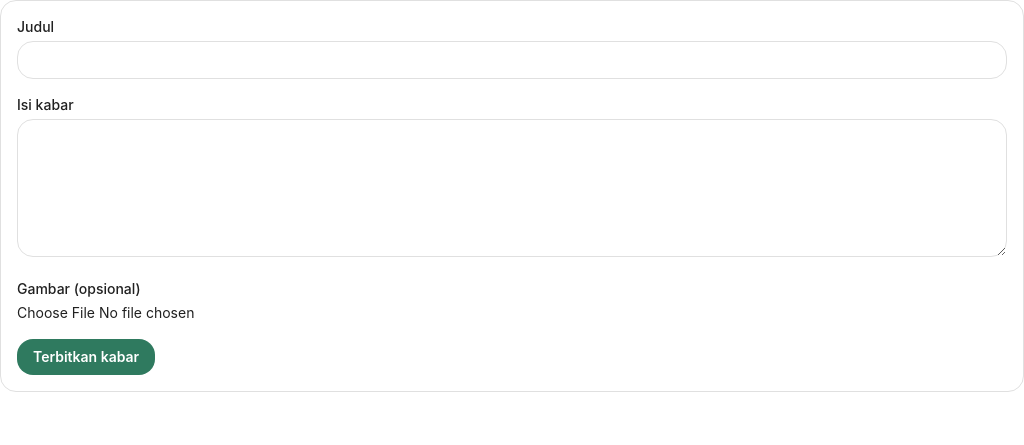
it: CampaignUpdateForm › posts title and content to the Campaign updates route and confirms
The image size is (1024, 445).
Type "Dana tersalur" into the field labelled "Judul".
click(512, 60); type("Dana tersalur")  # box [17,41,1007,79]
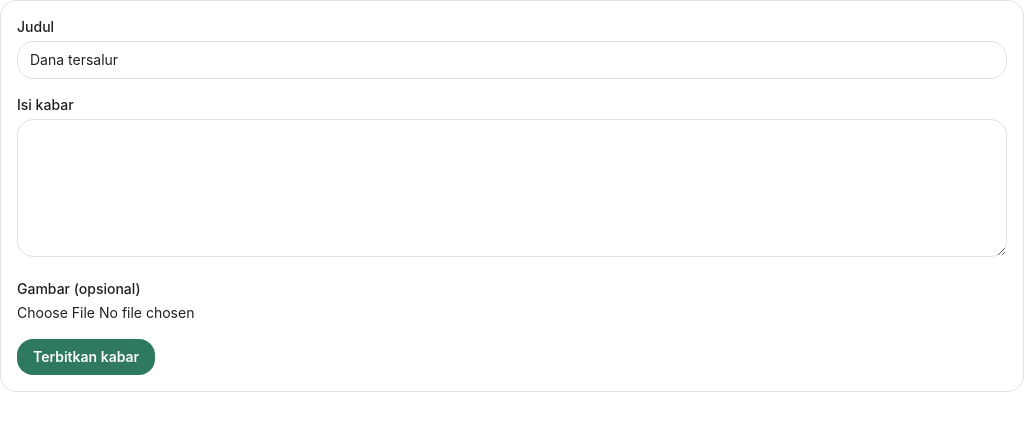
Type "Sudah sampai." into the text box labelled "Isi kabar".
click(512, 188); type("Sudah sampai.")  # box [17,119,1007,257]
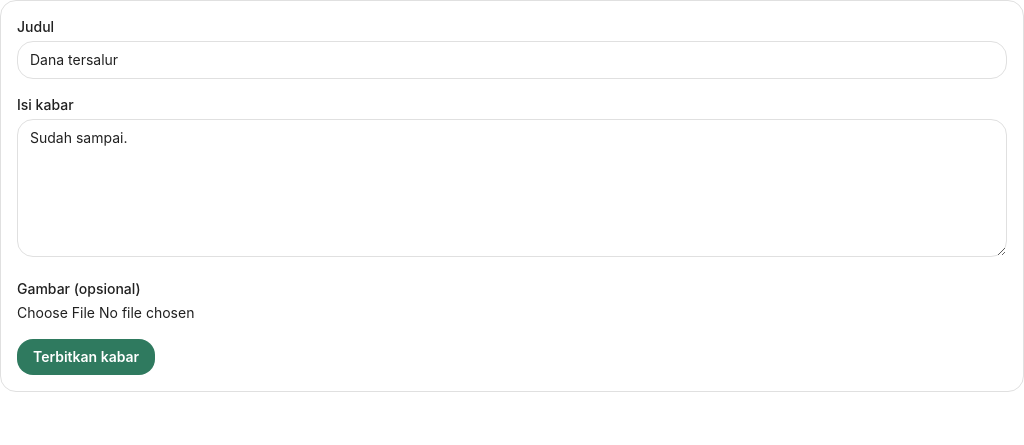
Click the button "Terbitkan kabar".
click(86, 357)  # box [17,339,155,375]
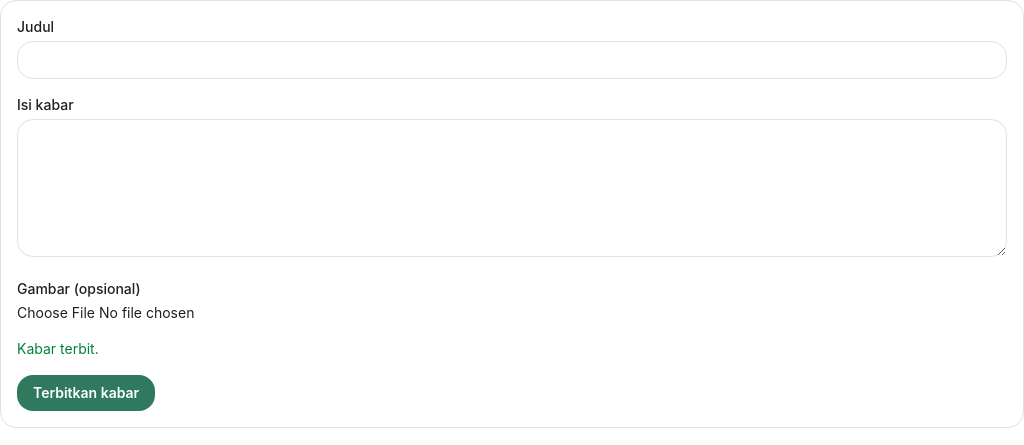
Check: the text "Kabar terbit." is shown, box [17,340,99,357]
Check: the field labelled "Judul" is empty, box [17,41,1007,79]
